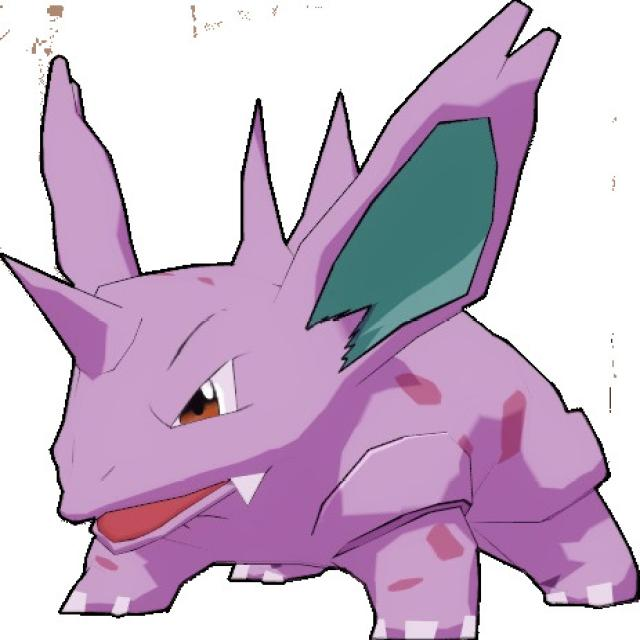Nidorino: (47, 64, 640, 640)
